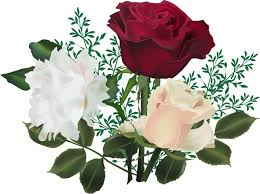lale: (21, 41, 119, 158), (102, 0, 224, 84), (130, 73, 214, 174)
